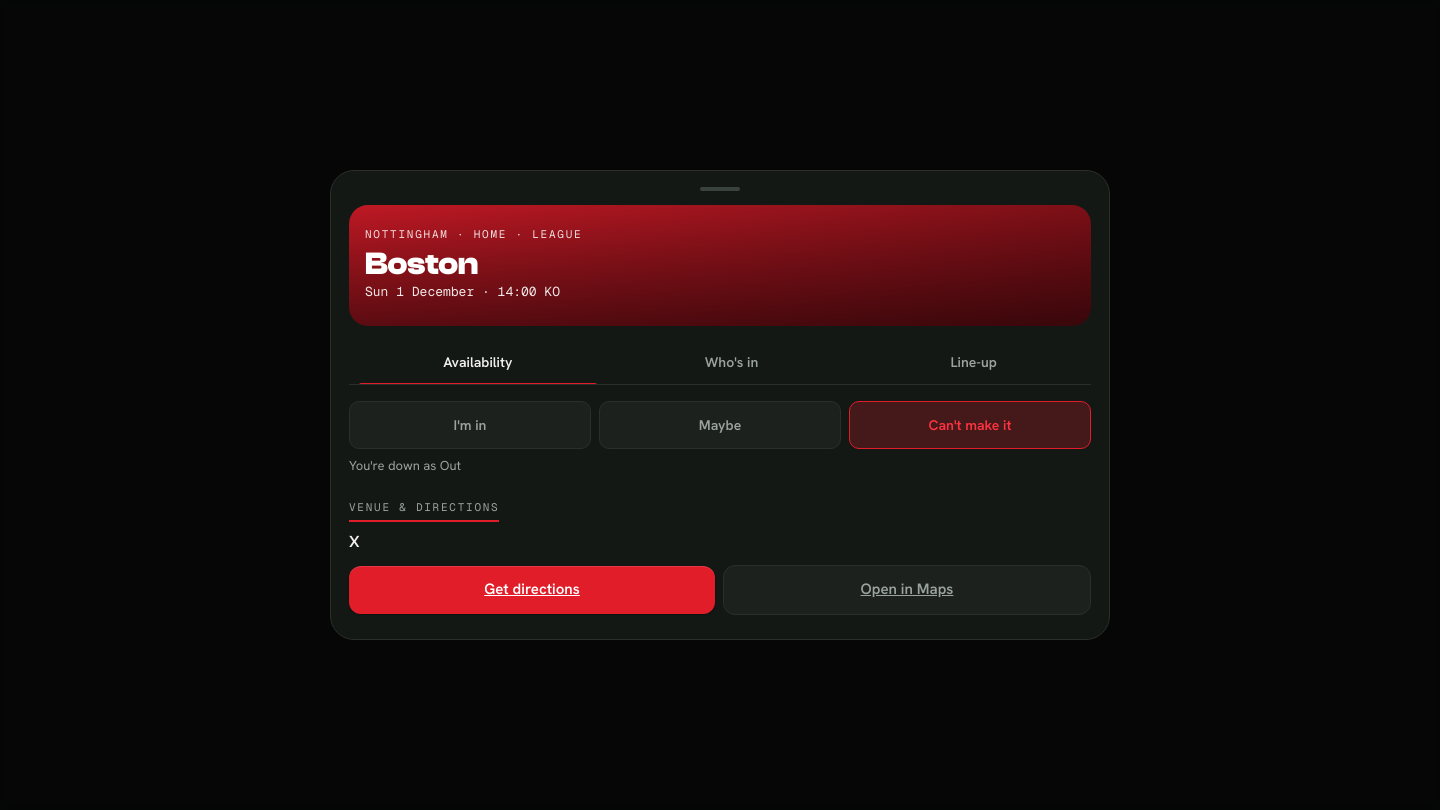
FixtureDetail — Who's in tab › lists this squad's answers only
What coordinates should you click on to do the following:
click the tab "Who's in"
I would click on:
 (732, 363)
Its box is [611,342,852,384].
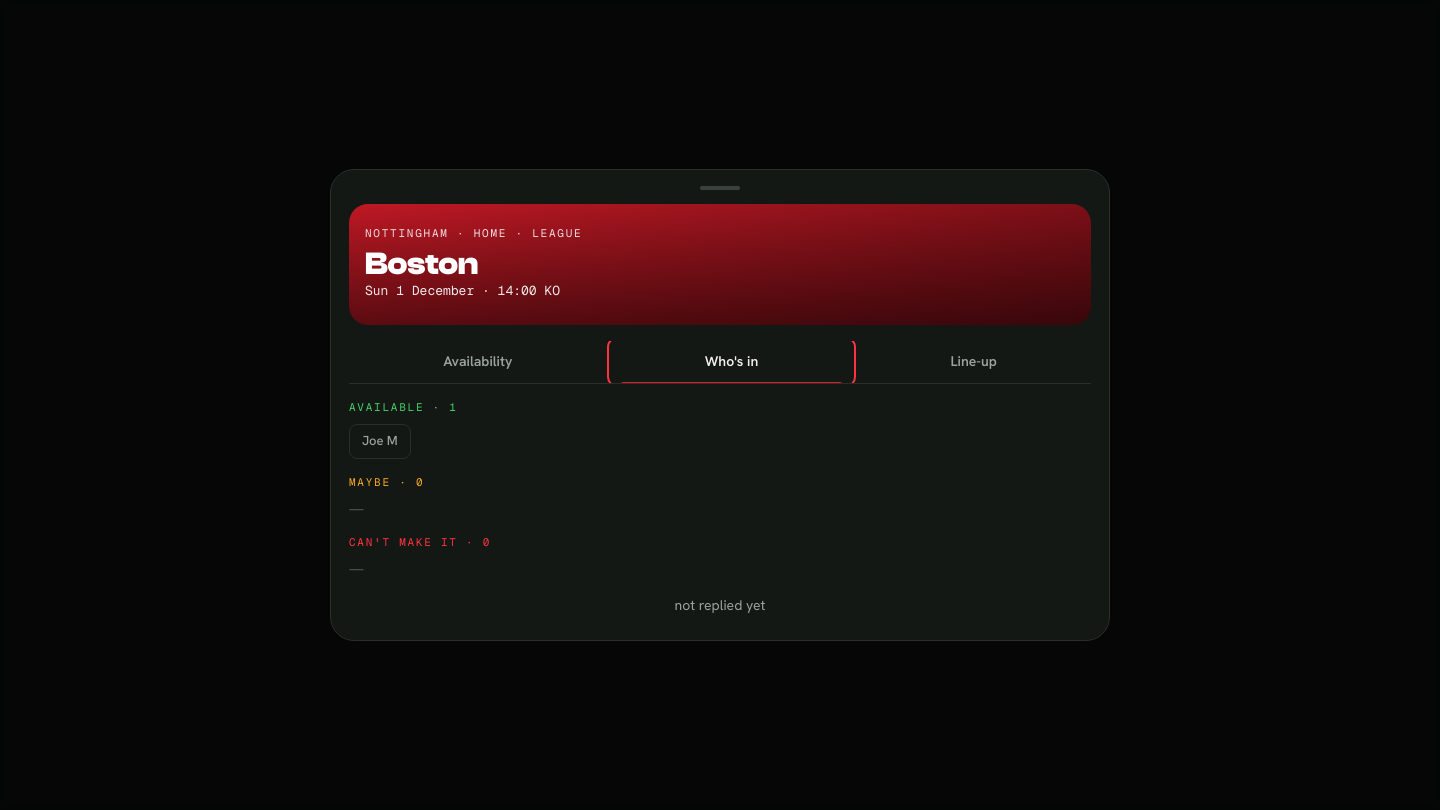
Now the text "Joe M" is shown, box [349,424,411,459]
Now the text "Available · 1" is shown, box [349,400,458,414]
